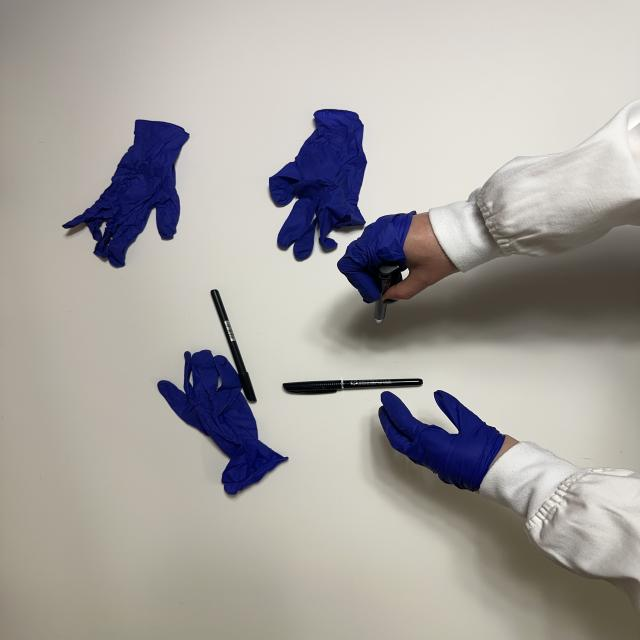glove_partial: (376, 388, 527, 494), (336, 210, 461, 304)
